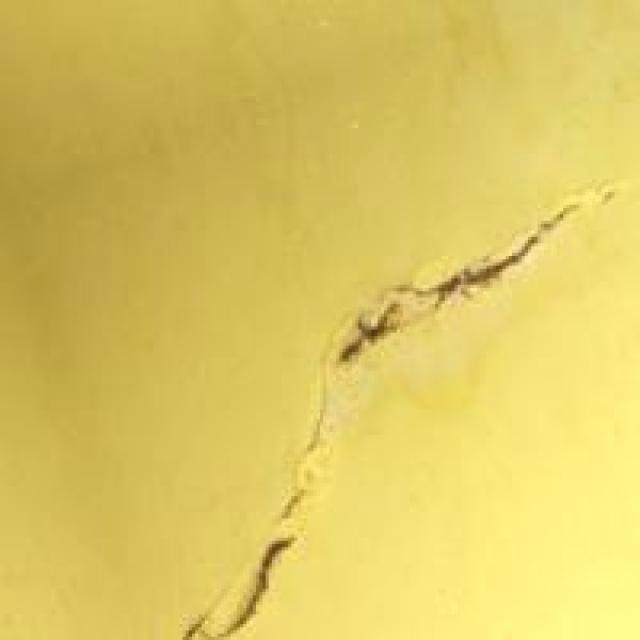SurfaceCrack: (142, 162, 582, 640)
